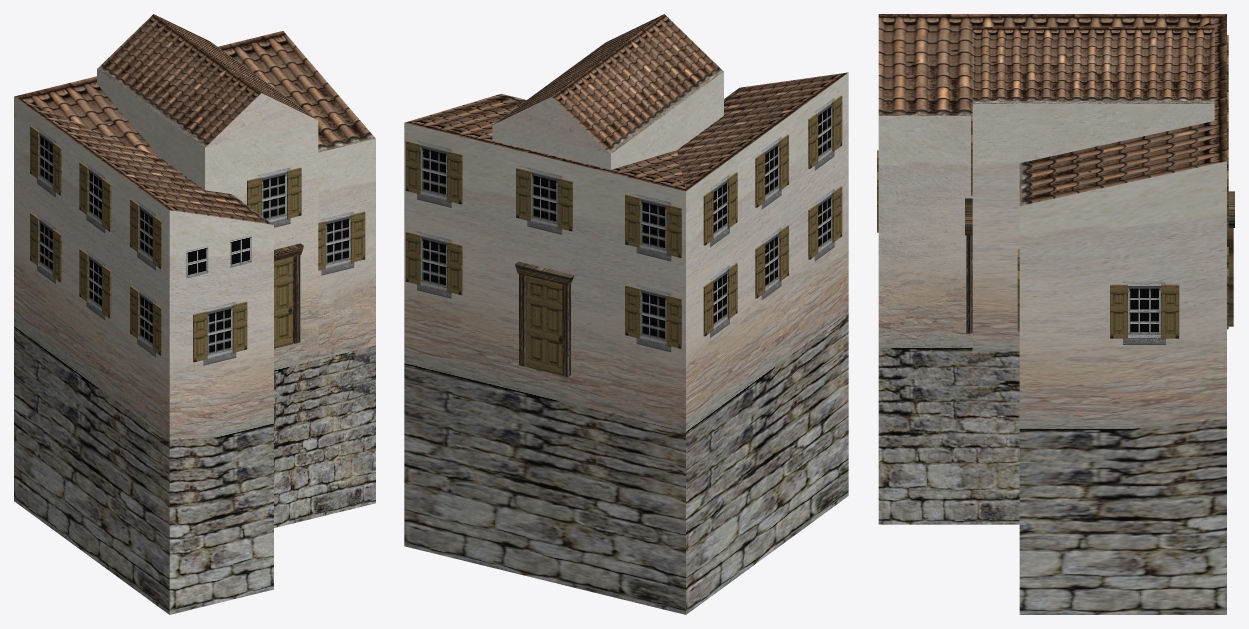
File: iber_house_b.dae
3 views of the same model, side by side, from view 1: azimuth 30°, elevation 25°; view 2: azimuth 150°, elevation 25°; view 3: azimuth 270°, elevation 25° (orthographic). The views are drawn at different scales.
Parts seen in each view (by area): view 1: IberHouse2; view 2: IberHouse2; view 3: IberHouse2.
Boxes of the visible parts, left/top/right/bottom form: IberHouse2: left=14, top=14, right=375, bottom=614; IberHouse2: left=404, top=14, right=848, bottom=614; IberHouse2: left=877, top=14, right=1234, bottom=614.
Bounding box in the file's own units: 14.95 × 15.21 × 24.11.
